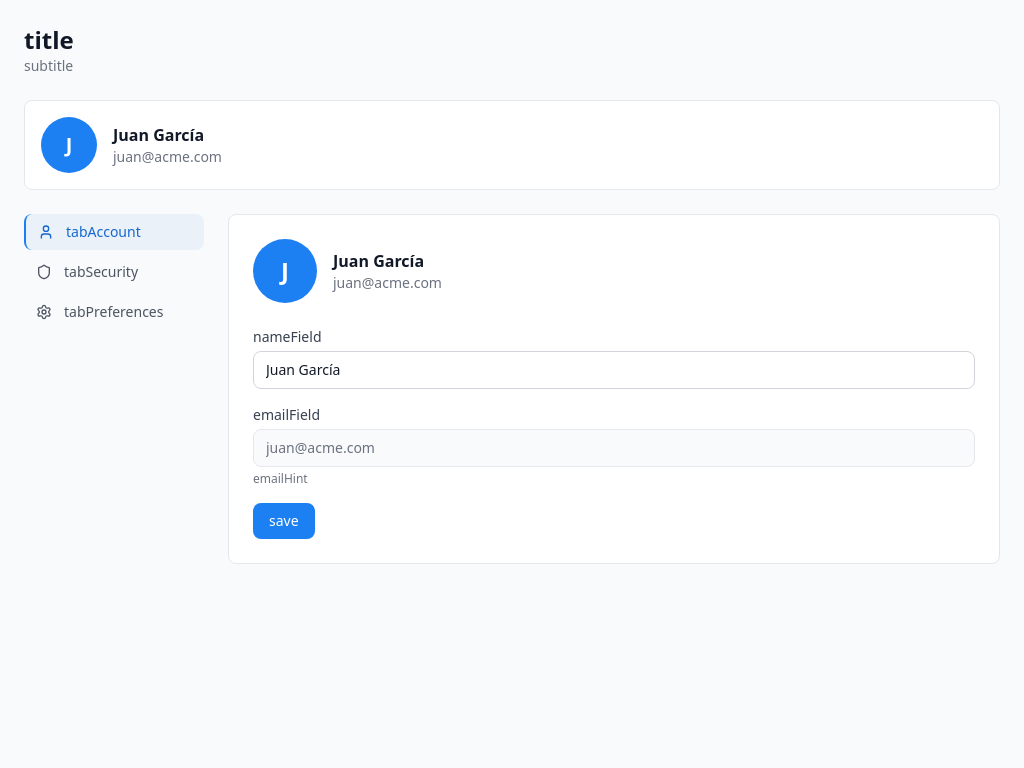
Test: ProfilePage › formulario contraseña valida campos vacíos
Click the button "tabSecurity". click: (114, 272)
box: [24, 254, 204, 290]
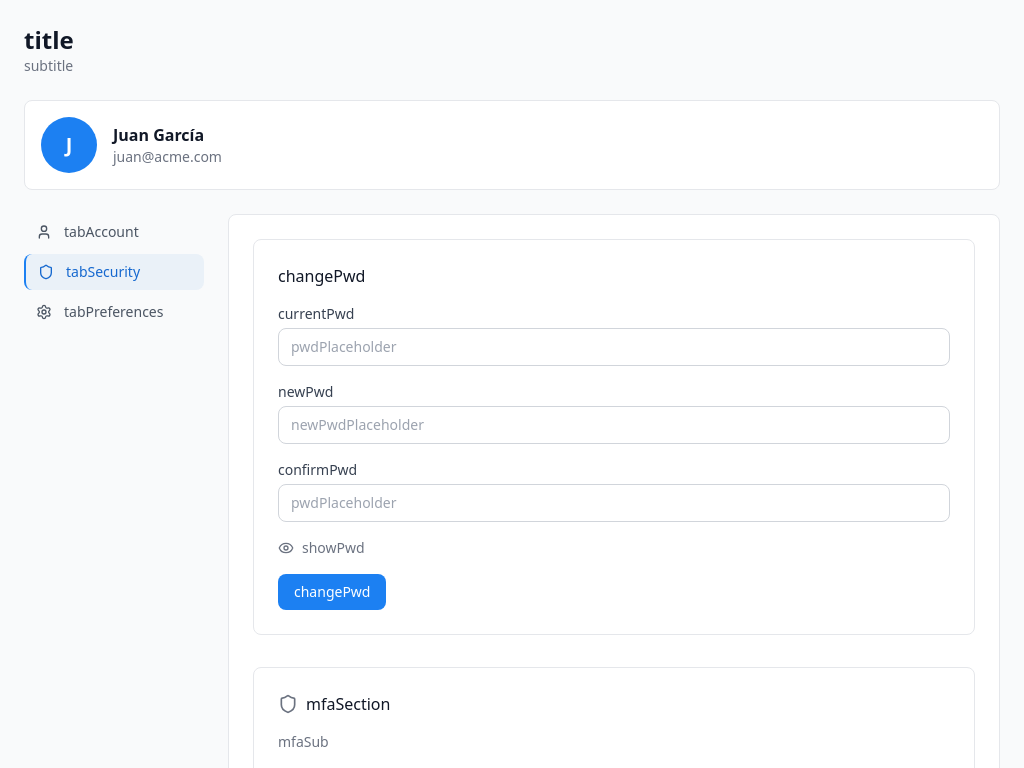
Click the submit button. click: (332, 592)
box: [278, 574, 386, 610]
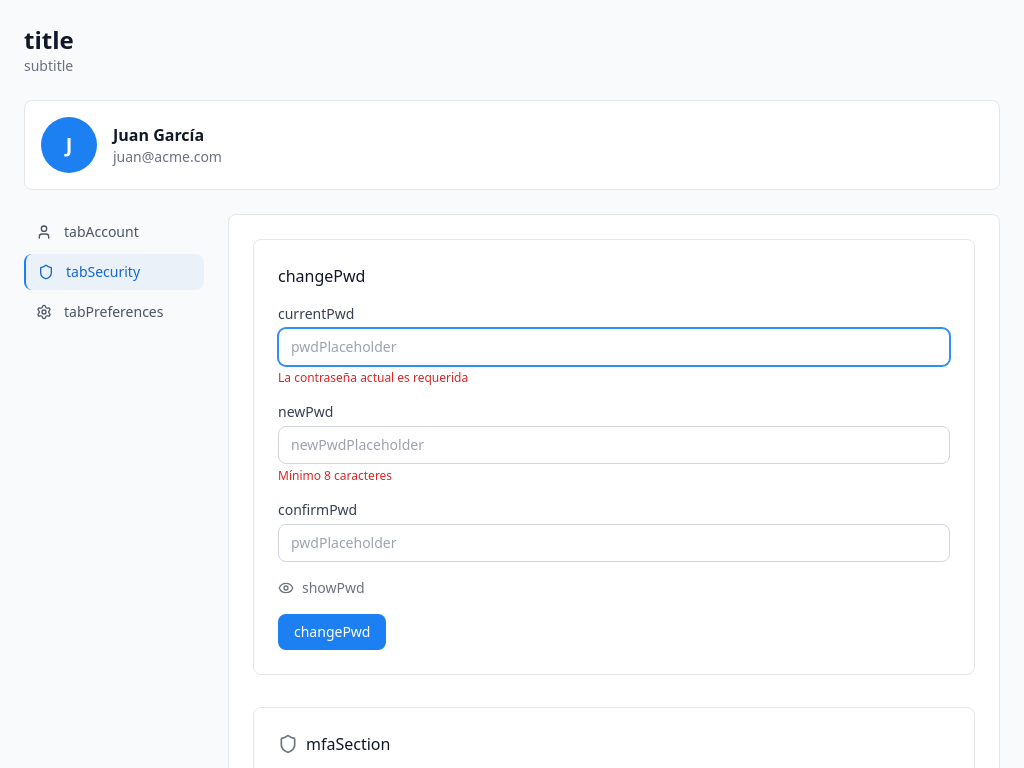
Result: the text "La contraseña actual es requerida" is shown at [278, 369, 468, 386]
